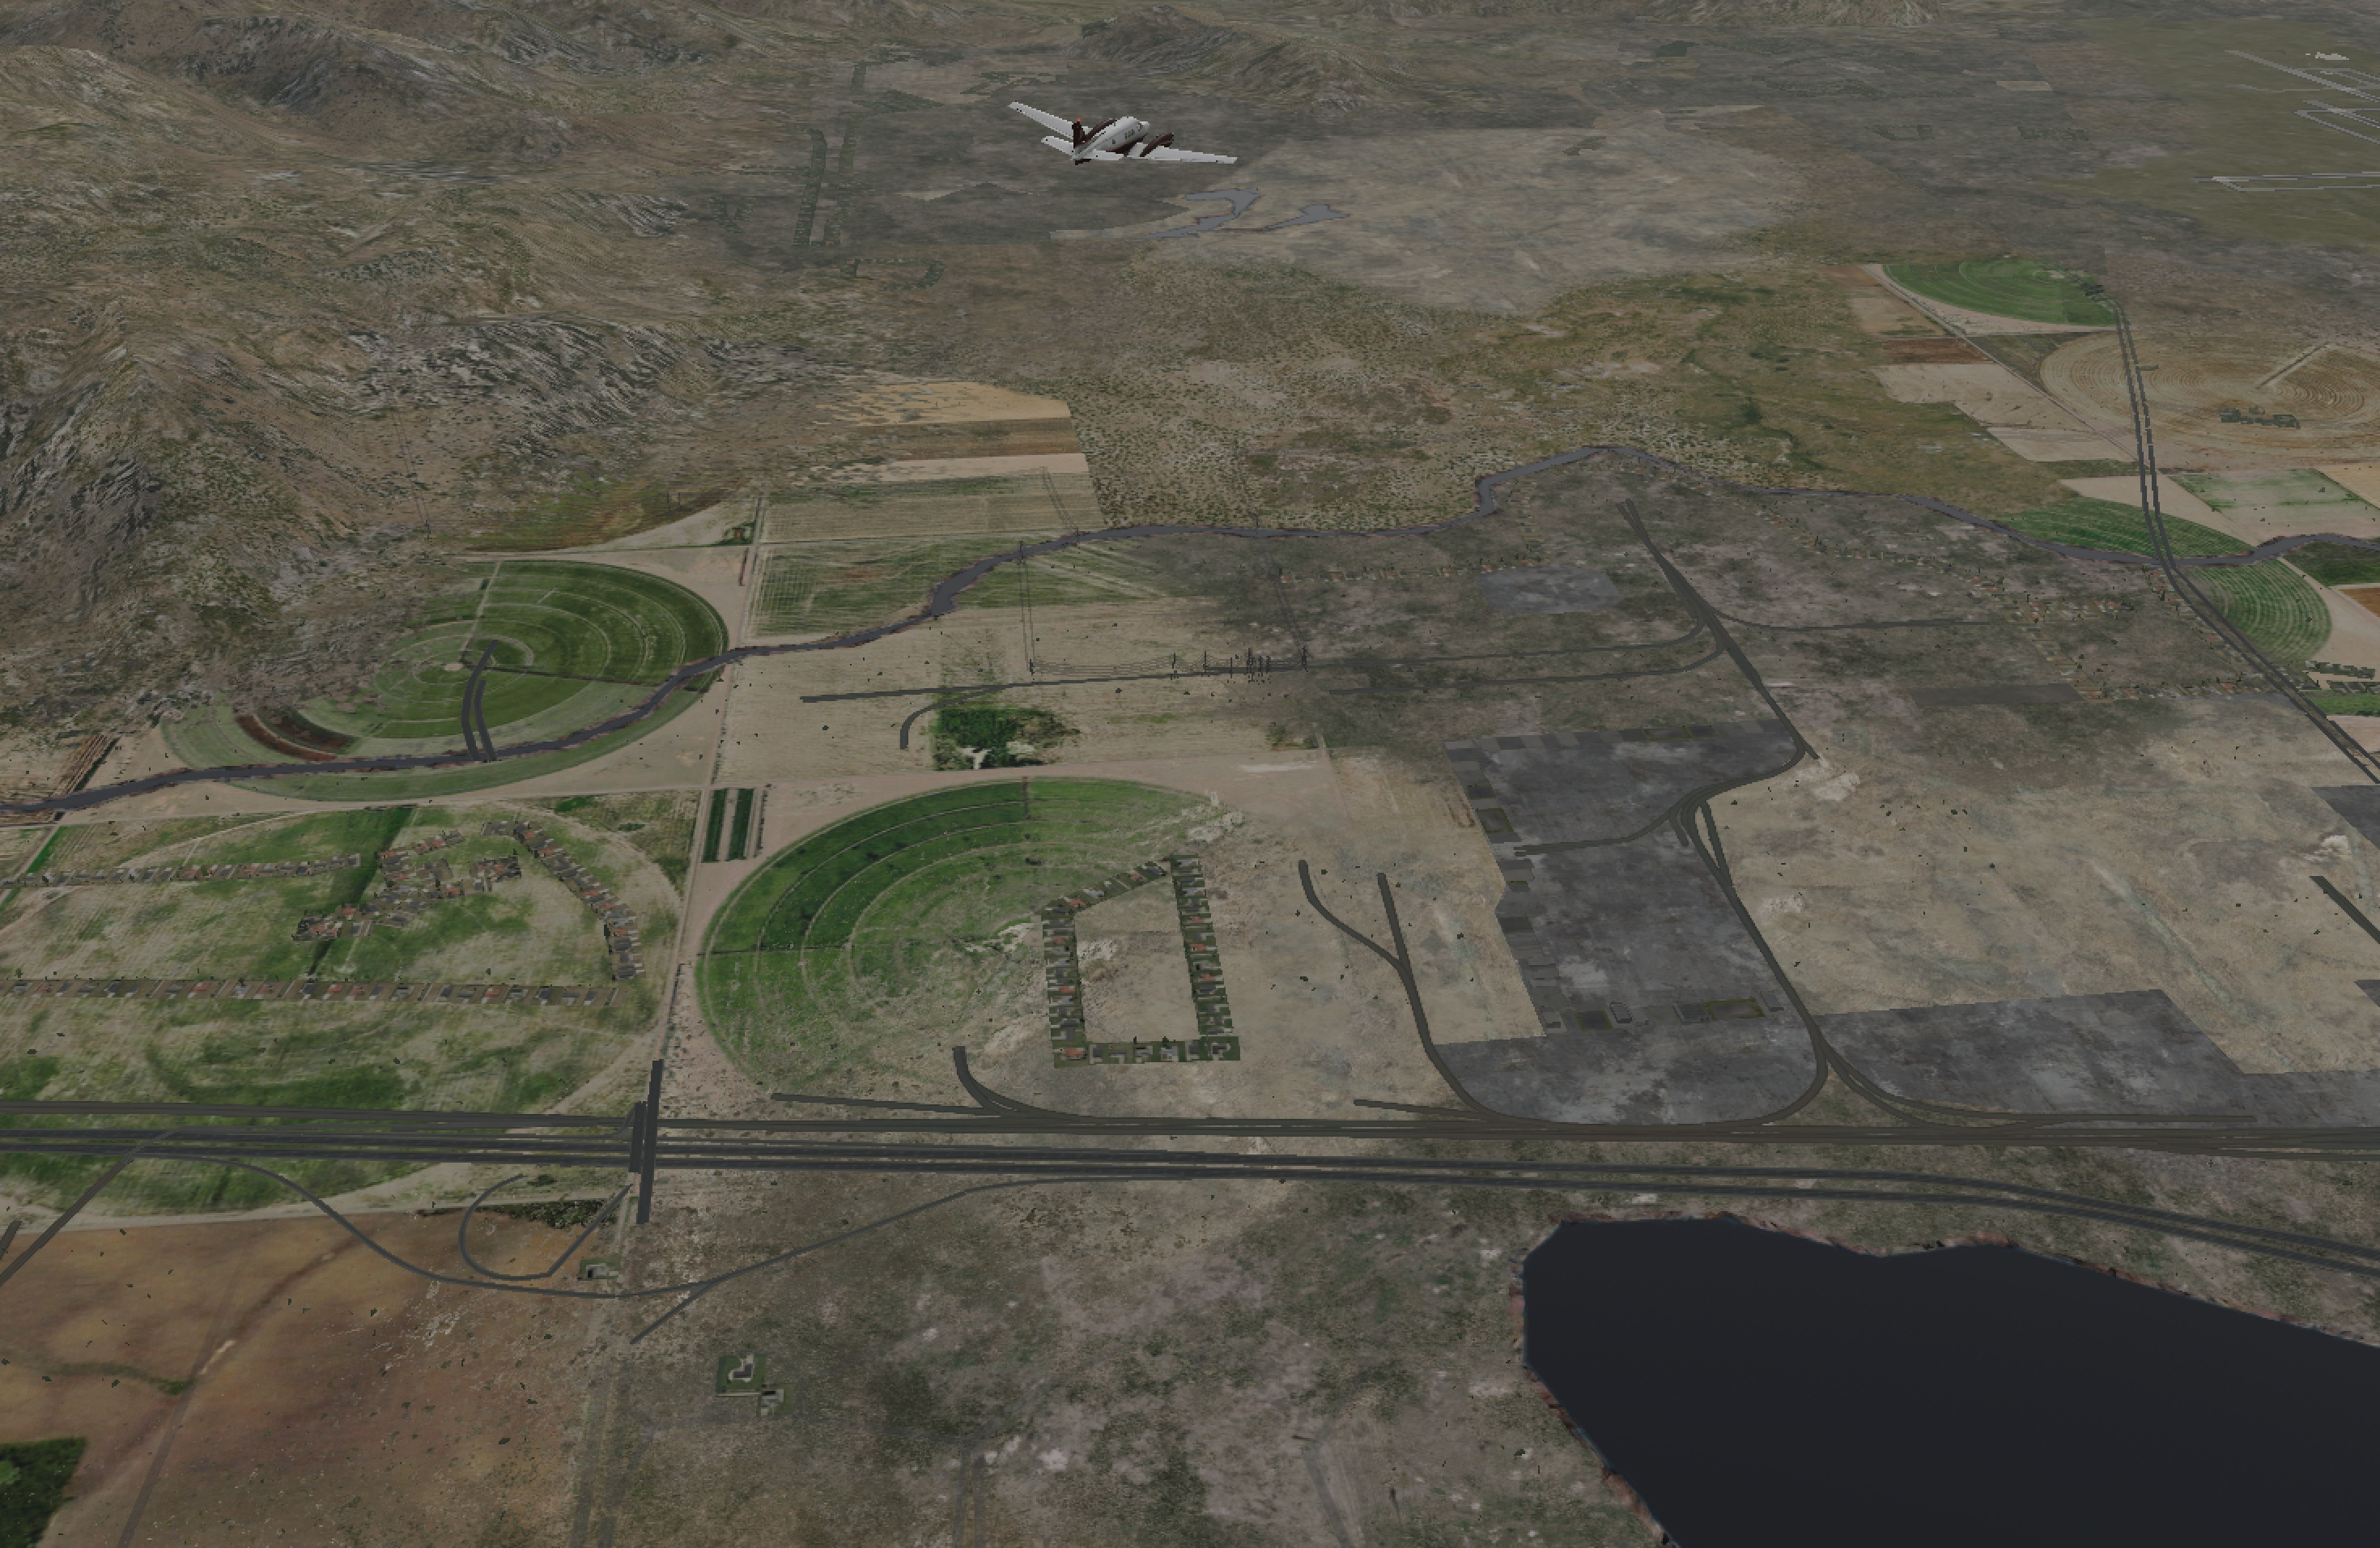aircraft: (1003, 101, 1246, 191)
